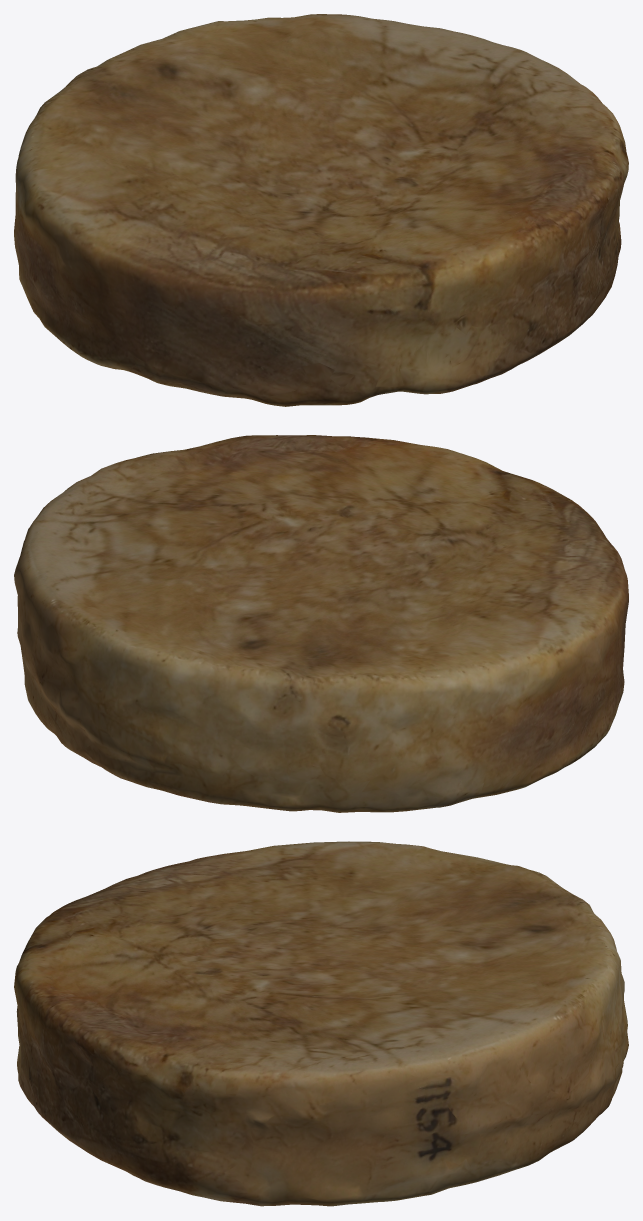
The model's file is marker1.glb.
The picture shows the model from 3 angles, top to bottom: view 1: azimuth 30°, elevation 25°; view 2: azimuth 150°, elevation 25°; view 3: azimuth 270°, elevation 25°; orthographic projection.
Visible parts, largest first — view 1: draught_draught154; view 2: draught_draught154; view 3: draught_draught154.
Boxes of the visible parts, box(x1,y1,x2,y2) form: draught_draught154: box(14, 14, 628, 406); draught_draught154: box(14, 435, 628, 812); draught_draught154: box(14, 841, 628, 1206).
Size of the model in its own units: 1.15 by 0.3198 by 1.16.
Materials: 1 (1 with a texture image).
